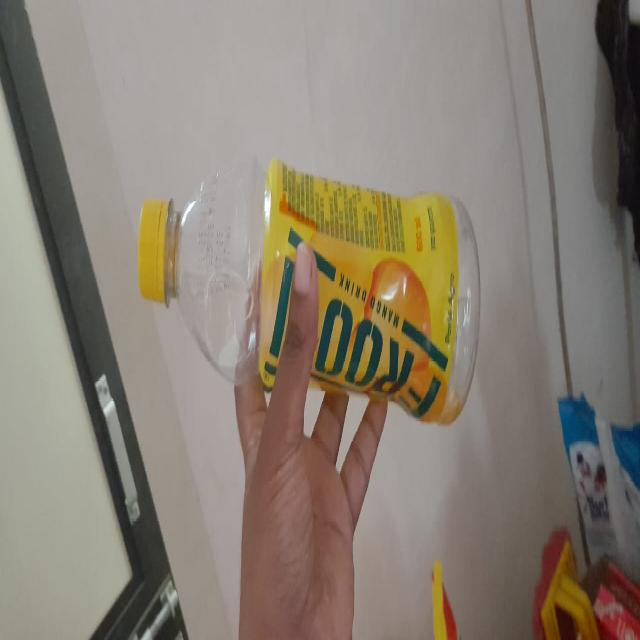Plastic - Recyclable: (136, 150, 482, 428)
